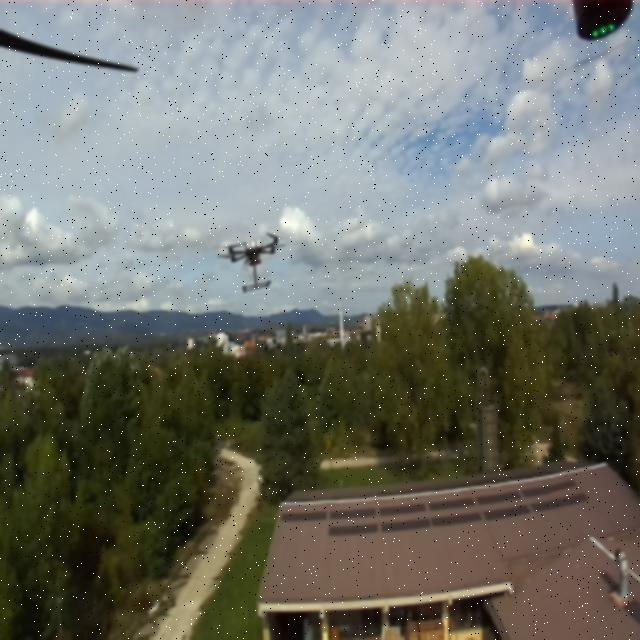UAV: (211, 228, 291, 288)
